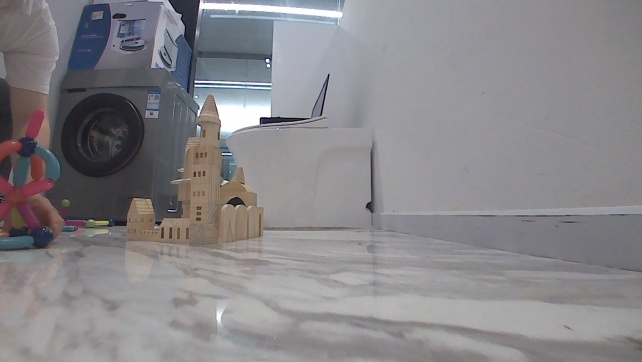plastic_toy: (122, 93, 264, 245), (0, 109, 62, 249)
toilet: (225, 115, 372, 229)
washing_machine1: (50, 66, 197, 224)
